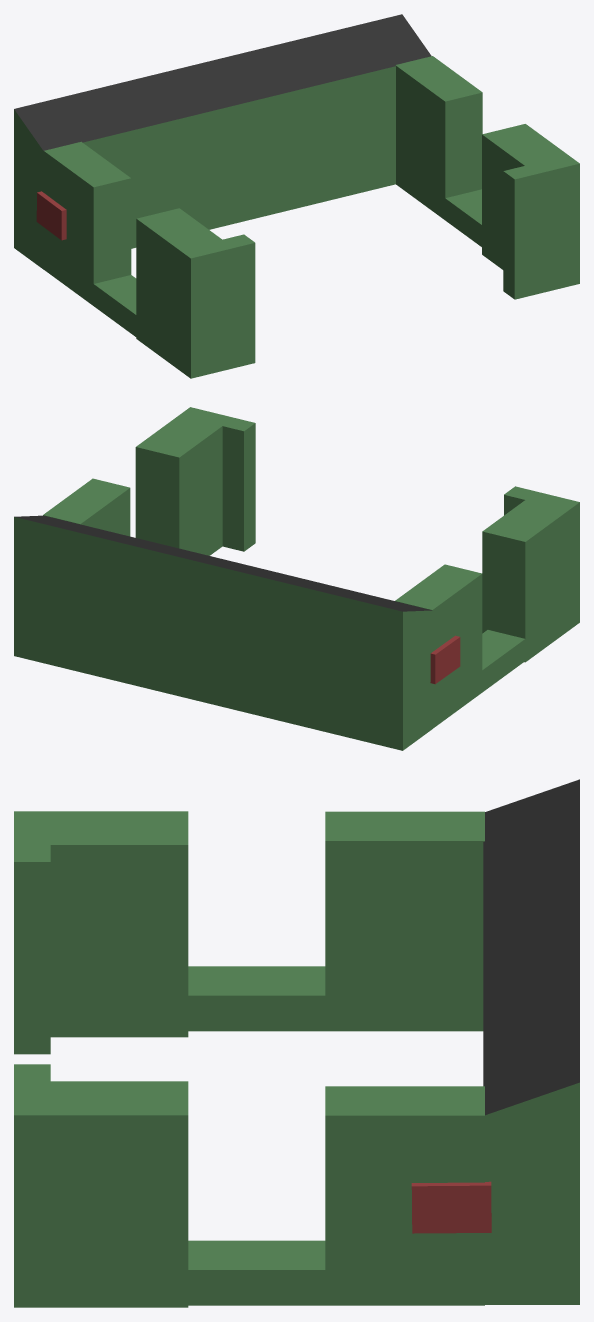
Rendered from craven-tank-back.dae.
3 renders of one model, top to bottom at view 1: azimuth 30°, elevation 25°; view 2: azimuth 150°, elevation 25°; view 3: azimuth 270°, elevation 25°, orthographic. The views are drawn at different scales.
Parts seen in each view (by area): view 1: Cube_023_014, Cube_024, Cube_023_011, Cube_023_012, Cube_023_013, Cube_023_010, Cube_023_020; view 2: Cube_023_014, Cube_024, Cube_023_012, Cube_023_011, Cube_023_013, Cube_023_020; view 3: Cube_024, Cube_023_014, Cube_023_012, Cube_023_011, Cube_023_010, Cube_023_013, Cube_023_019.
Part boxes in pixels (<box>): Cube_023_014: <box>14,14,431,269</box>; Cube_024: <box>136,124,579,378</box>; Cube_023_011: <box>395,56,482,219</box>; Cube_023_012: <box>44,141,131,305</box>; Cube_023_013: <box>93,275,136,336</box>; Cube_023_010: <box>444,189,481,246</box>; Cube_023_020: <box>36,191,66,240</box>; Cube_023_014: <box>14,515,432,750</box>; Cube_024: <box>135,407,579,662</box>; Cube_023_012: <box>395,564,482,728</box>; Cube_023_011: <box>43,478,130,536</box>; Cube_023_013: <box>482,630,525,692</box>; Cube_023_020: <box>430,635,460,684</box>; Cube_024: <box>14,811,188,1307</box>; Cube_023_014: <box>483,779,579,1304</box>; Cube_023_012: <box>325,811,484,1031</box>; Cube_023_011: <box>325,1086,484,1305</box>; Cube_023_010: <box>185,1240,327,1305</box>; Cube_023_013: <box>188,966,326,1031</box>; Cube_023_019: <box>411,1181,491,1233</box>.
Size of the model in its own units: 1.74 by 1.34 by 0.5858.
